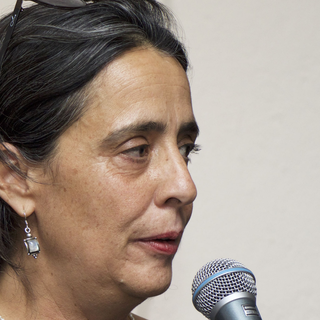eye: (109, 135, 152, 165), (172, 136, 200, 163)
